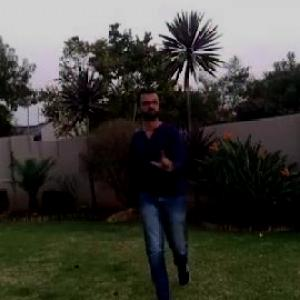land_hand: (148, 134, 179, 174)
